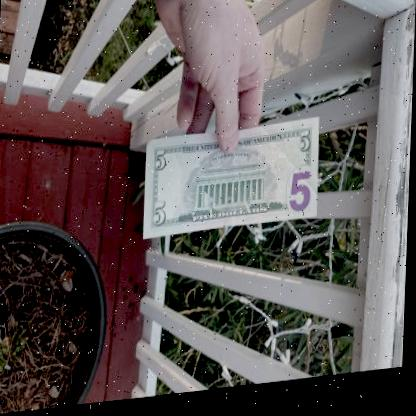five-back: (144, 127, 319, 242)
